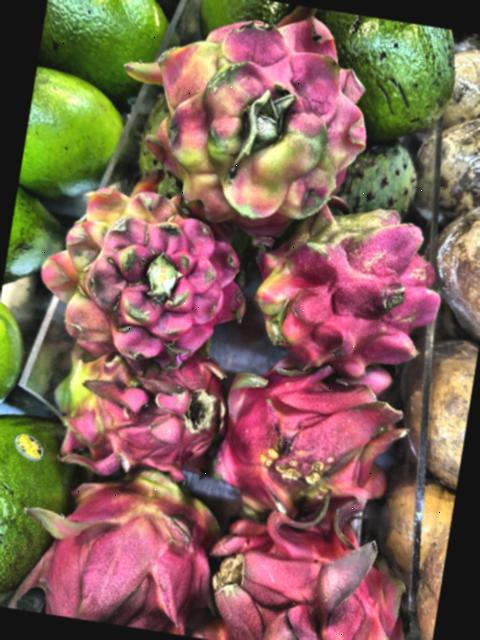buah-naga-belum-matang: (115, 0, 397, 234), (34, 178, 264, 380), (239, 192, 458, 395), (27, 448, 228, 634), (206, 358, 412, 527), (35, 336, 234, 468)
buah-naga-matang: (197, 485, 437, 640)
